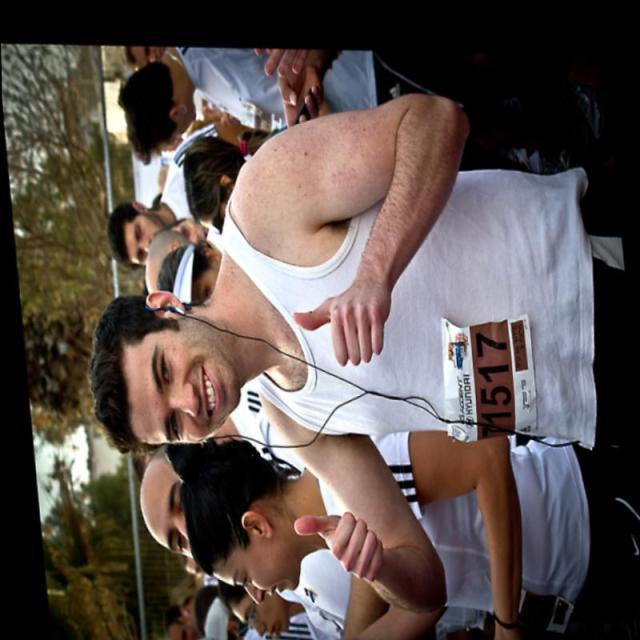dorsal: (425, 278, 550, 462)
